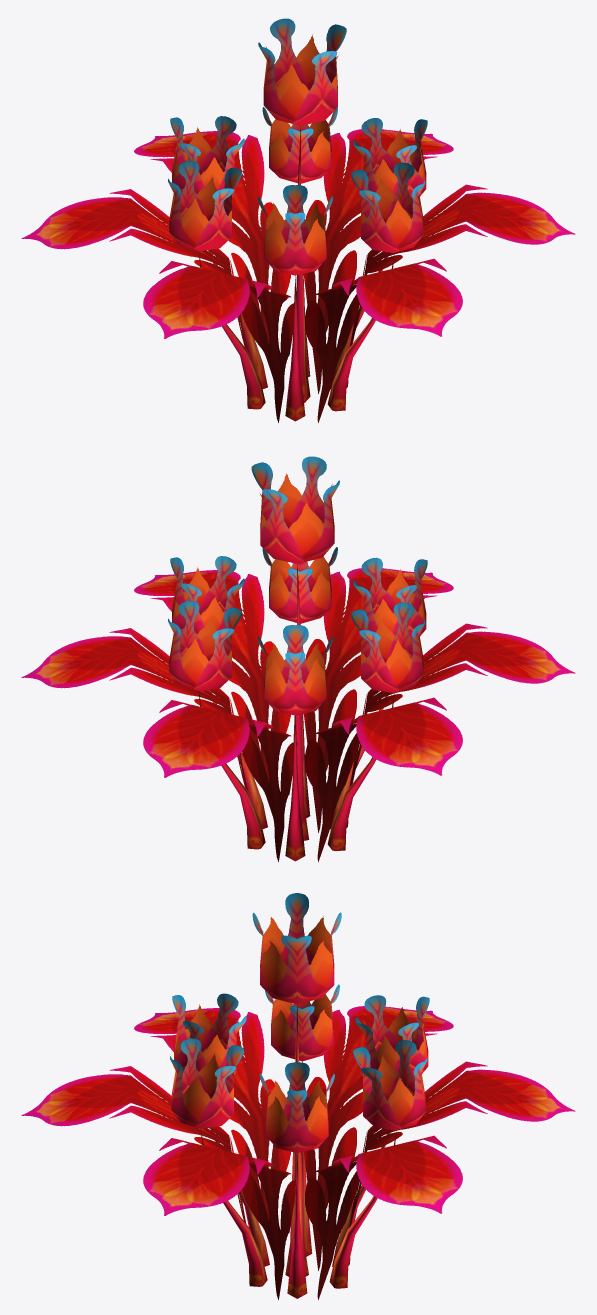
The model's file is Red_Bush_03.FBX.
3 views of the same model, one above another, from view 1: azimuth 30°, elevation 25°; view 2: azimuth 150°, elevation 25°; view 3: azimuth 270°, elevation 25° (orthographic).
Parts seen in each view (by area): view 1: Red_Bush_03; view 2: Red_Bush_03; view 3: Red_Bush_03.
Boxes of the visible parts, bbox=[...] form: Red_Bush_03: bbox=[21, 18, 575, 422]; Red_Bush_03: bbox=[21, 456, 575, 861]; Red_Bush_03: bbox=[21, 893, 575, 1299].
Size of the model in its own units: 172 by 127 by 174.
